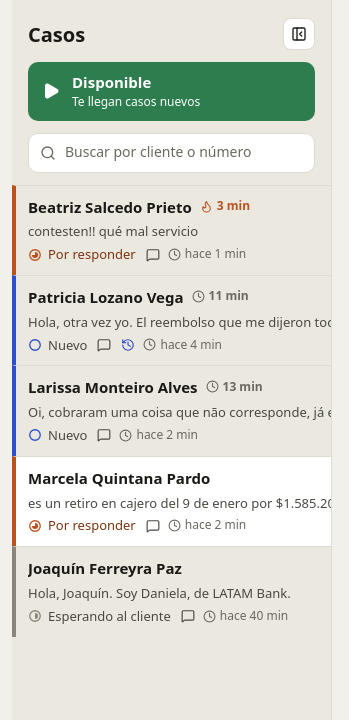
Test case: CaseListPanel › says when a search matches nothing
Expected: the list named "Casos" is shown, [12,184,331,637]
Type "Zuleta" into the search field named "Buscar caso" at point(172, 152), box [28,132,315,172]
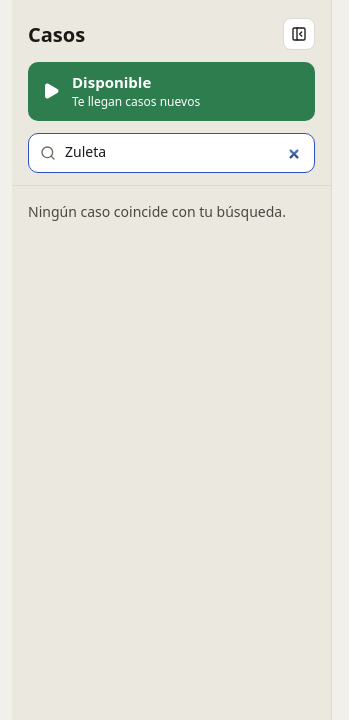
Expected: the text "Ningún caso coincide con tu búsqueda." is shown, [12,184,331,238]
